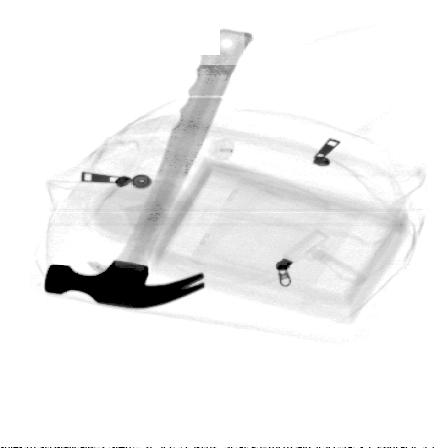Hammer: (42, 26, 256, 310)
